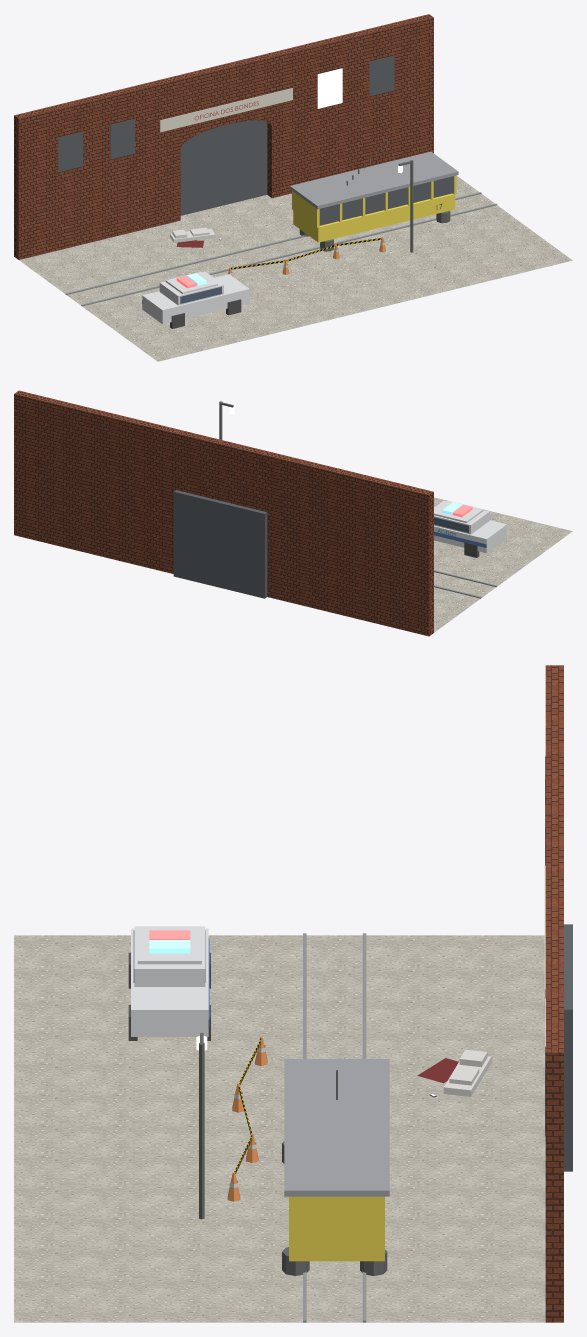
File: oficina.glb
The picture shows the model from 3 angles, top to bottom: view 1: azimuth 30°, elevation 25°; view 2: azimuth 150°, elevation 25°; view 3: azimuth 270°, elevation 25°; orthographic projection. The views are drawn at different scales.
Parts seen in each view (by area): view 1: Lapa_brick, Lapa_pedra, Lapa_dark, Lapa_tram_grey, Lapa_mic_yellow, Lapa_police_white, Lapa_cream, Lapa_rail, Lapa_bonde_lit, Lapa_iron, Lapa_sheet; view 2: Lapa_brick, Lapa_dark, Lapa_pedra, Lapa_police_white; view 3: Lapa_pedra, Lapa_tram_grey, Lapa_brick, Lapa_police_white, Lapa_mic_yellow, Lapa_dark, Lapa_iron, Lapa_rail, Lapa_sheet, Lapa_cone.
Part boxes in pixels (left/top/right/bottom): Lapa_brick: left=14, top=14, right=433, bottom=259; Lapa_pedra: left=19, top=176, right=572, bottom=361; Lapa_dark: left=58, top=55, right=453, bottom=225; Lapa_tram_grey: left=290, top=151, right=458, bottom=209; Lapa_mic_yellow: left=292, top=175, right=456, bottom=242; Lapa_police_white: left=142, top=271, right=249, bottom=324; Lapa_cream: left=160, top=88, right=292, bottom=132; Lapa_rail: left=65, top=192, right=497, bottom=306; Lapa_bonde_lit: left=317, top=68, right=342, bottom=108; Lapa_iron: left=299, top=140, right=450, bottom=252; Lapa_sheet: left=170, top=227, right=215, bottom=242; Lapa_brick: left=14, top=390, right=433, bottom=636; Lapa_dark: left=173, top=490, right=267, bottom=598; Lapa_pedra: left=434, top=497, right=572, bottom=632; Lapa_police_white: left=434, top=500, right=506, bottom=553; Lapa_pedra: left=14, top=935, right=545, bottom=1322; Lapa_tram_grey: left=284, top=1059, right=389, bottom=1196; Lapa_brick: left=545, top=665, right=563, bottom=1322; Lapa_police_white: left=131, top=926, right=208, bottom=1036; Lapa_mic_yellow: left=289, top=1196, right=384, bottom=1261; Lapa_dark: left=545, top=756, right=572, bottom=1171; Lapa_iron: left=199, top=1033, right=387, bottom=1275; Lapa_rail: left=303, top=933, right=366, bottom=1322; Lapa_sheet: left=443, top=1049, right=491, bottom=1096; Lapa_cone: left=227, top=1037, right=267, bottom=1201.
Bounding box in the file's own units: 20 × 6.5 × 12.2.
Materials: 24 (3 with a texture image).
